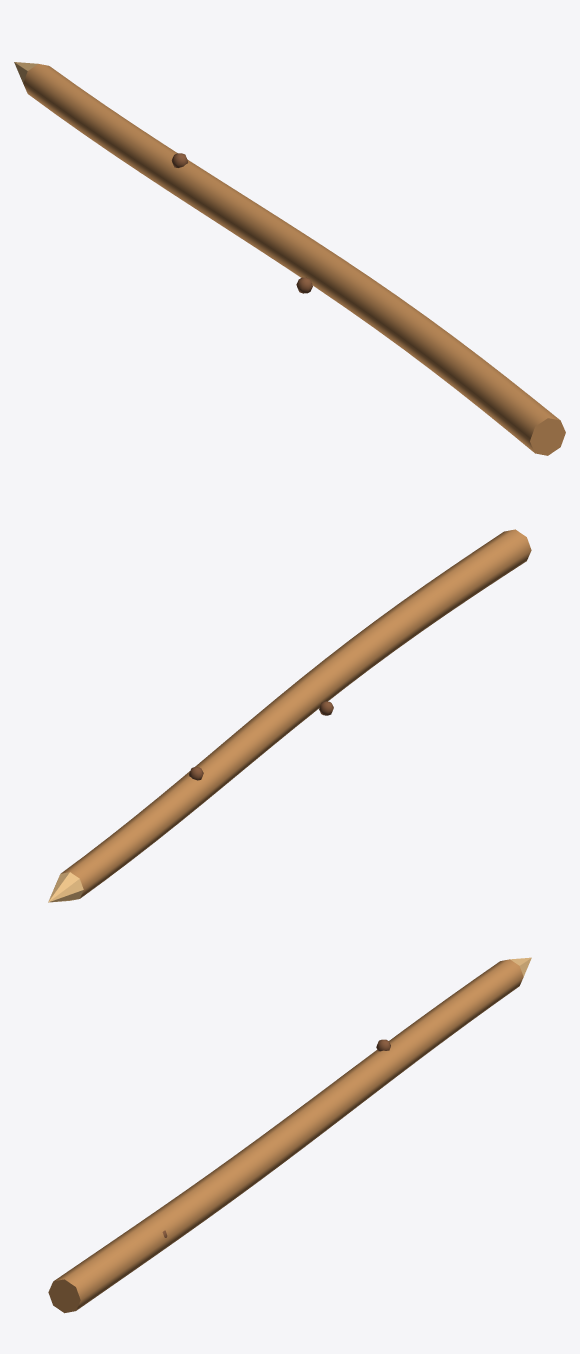
Rendered from spear.glb.
3 views of the same model, one above another, from view 1: azimuth 30°, elevation 25°; view 2: azimuth 150°, elevation 25°; view 3: azimuth 330°, elevation 25° (orthographic). The views are drawn at different scales.
Parts seen in each view (by area): view 1: Spear; view 2: Spear; view 3: Spear.
Boxes of the visible parts, x1,y1,x2,y2 form: Spear: (14, 62, 565, 455); Spear: (48, 529, 531, 902); Spear: (48, 957, 531, 1313).
Size of the model in its own units: 0.3001 by 0.3 by 4.5.
